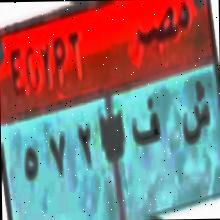2: (71, 117, 95, 178)
5: (19, 143, 43, 186)
7: (46, 121, 68, 186)
faa: (130, 89, 162, 151)
sheen: (180, 78, 212, 154)
